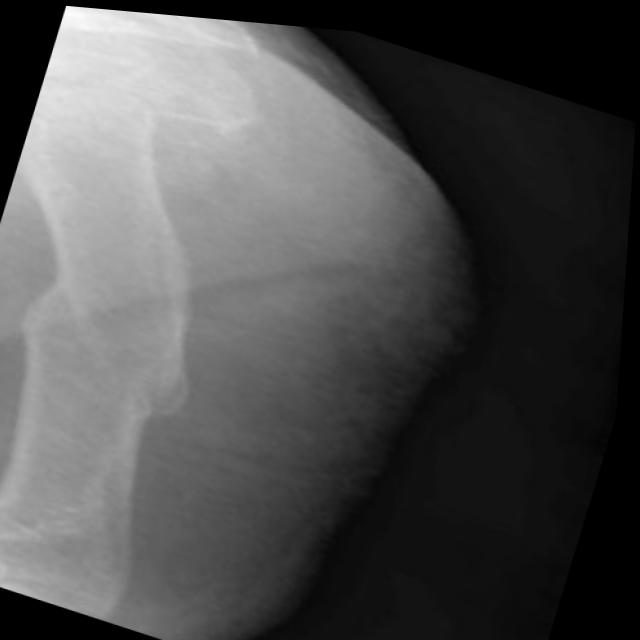fracture: (5, 267, 232, 433)
